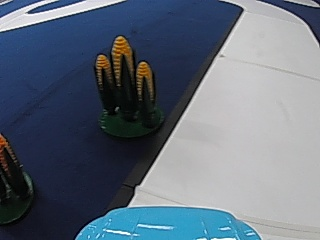corn: (92, 32, 163, 141), (3, 134, 34, 221)
